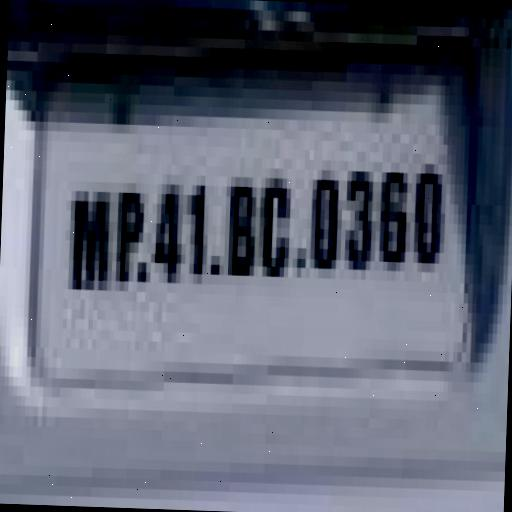number plate: (19, 90, 474, 323)
